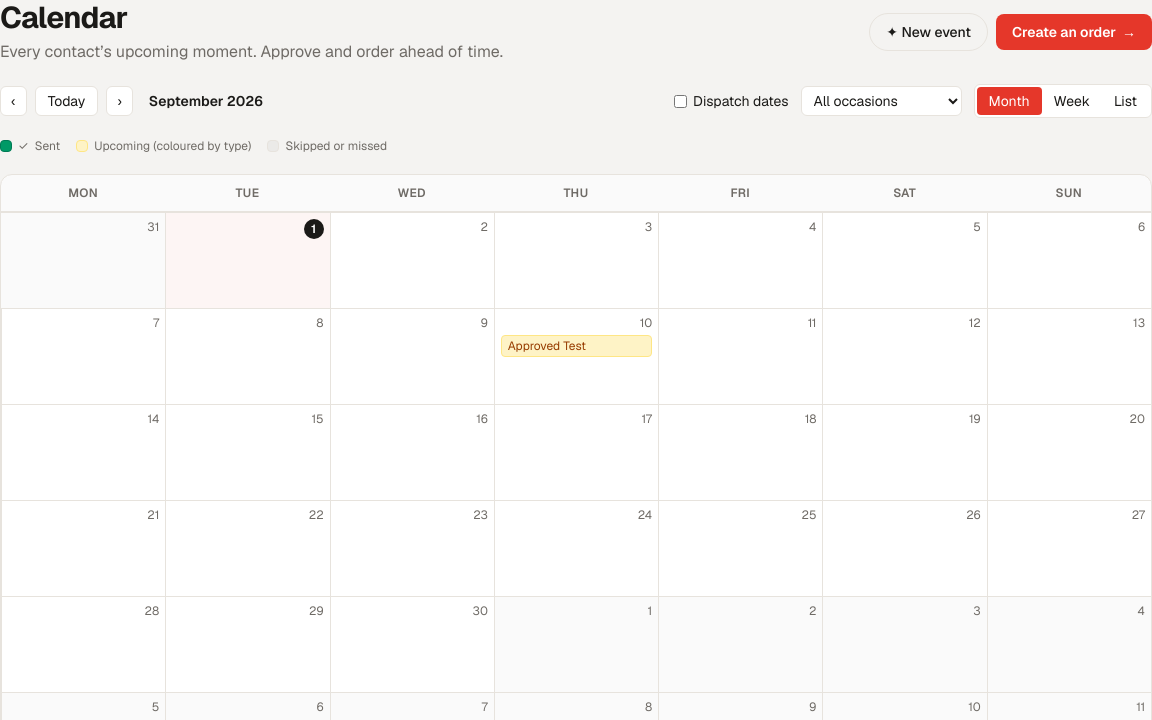
Test: CalendarClient list view selection › offers a tickable box for an approved occasion
What coordinates should you click on to do the following:
click the button "list"
I would click on:
 (1126, 101)
Its box is [1102,87,1149,115].
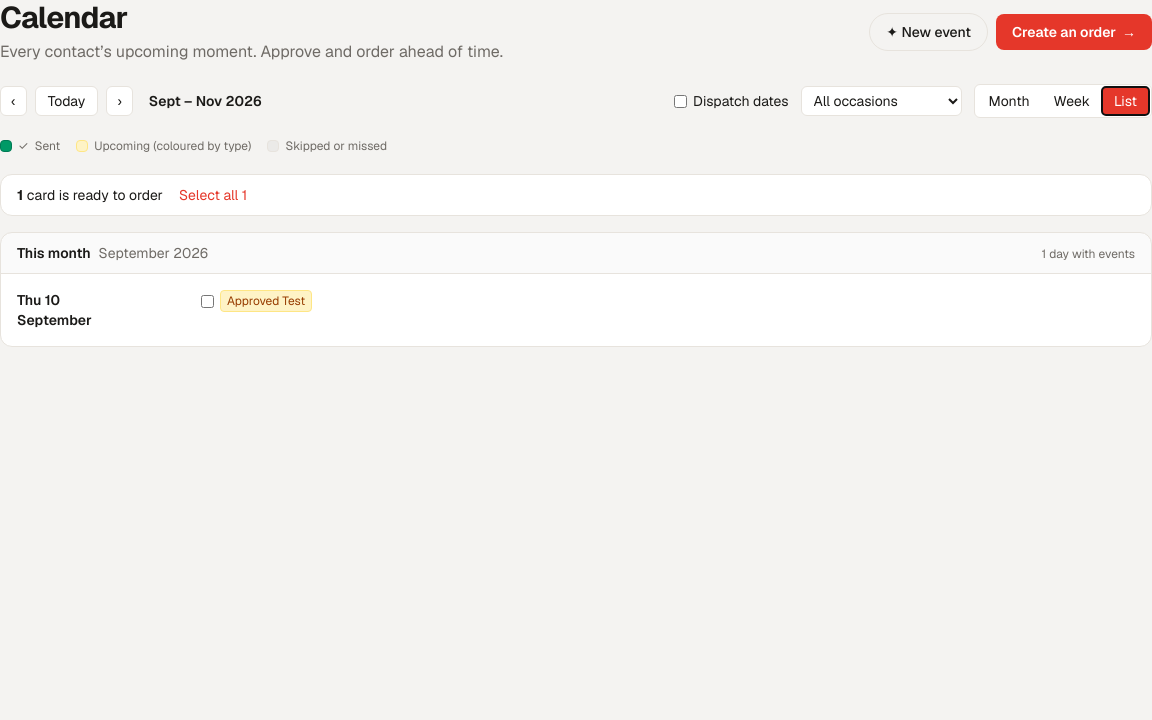
Check: the number of checkboxes titled "Select to include in an order" is 1
What coordinates should you click on to do the following:
click the checkbox titled "Select to include in an order"
I would click on:
 (208, 301)
Its box is [201,294,214,308].
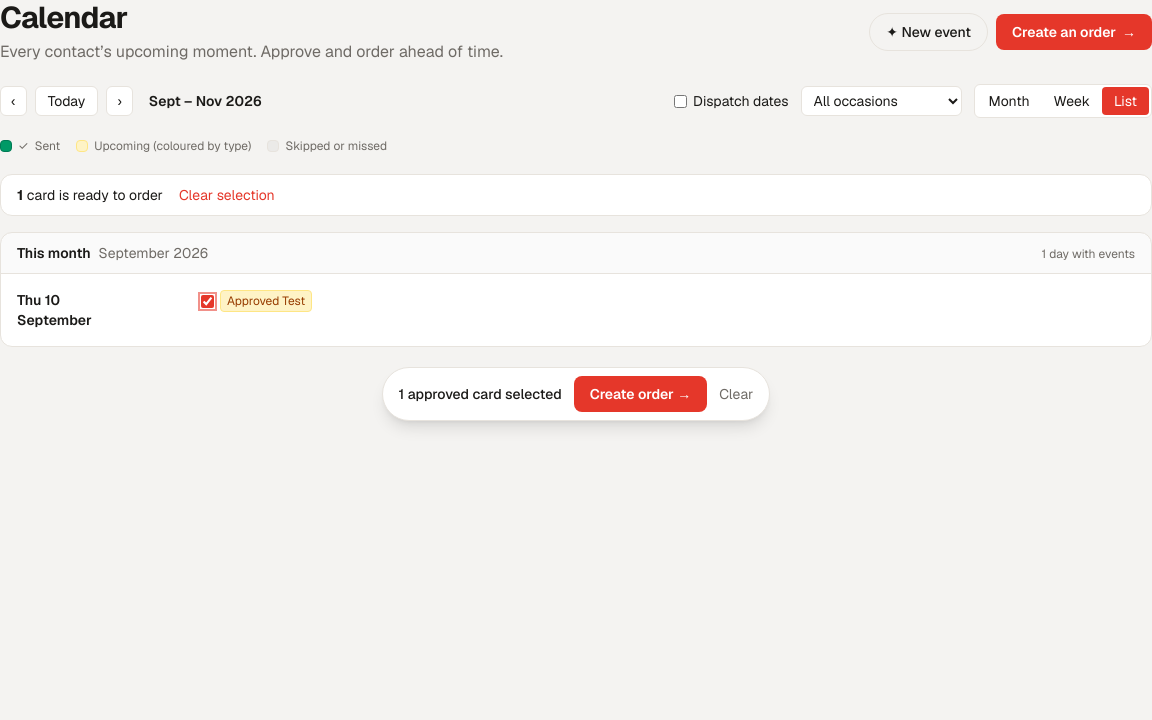
Check: the text "1 approved card selected" is shown, box [399,384,562,404]
